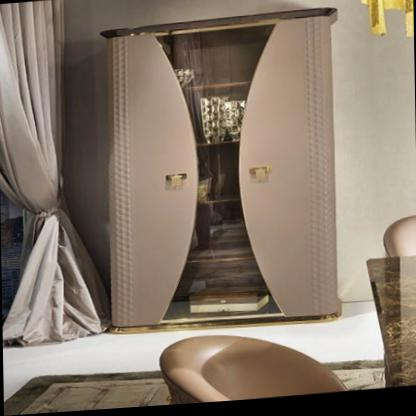Cupboard: (96, 2, 348, 348)
